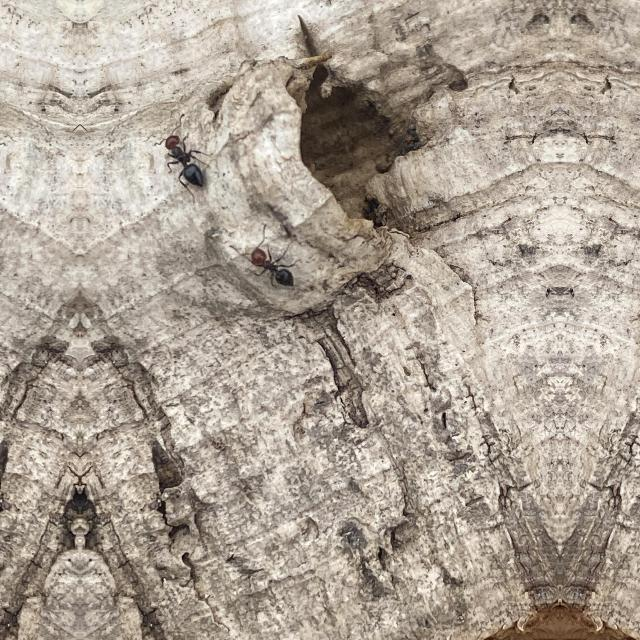Crematogaster: (163, 116, 204, 194), (240, 248, 294, 284)
